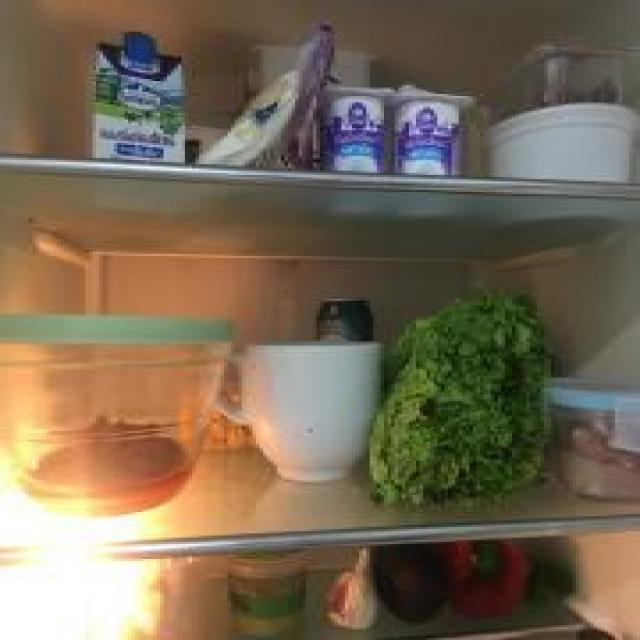avocado: (378, 546, 449, 629)
bell_pepper: (452, 538, 534, 620)
garlic: (324, 550, 381, 630)
guacamole: (224, 548, 306, 632)
heavy_cream: (94, 29, 187, 167)
salad: (391, 312, 541, 504)
yogurt: (394, 89, 466, 180), (320, 87, 395, 173)
